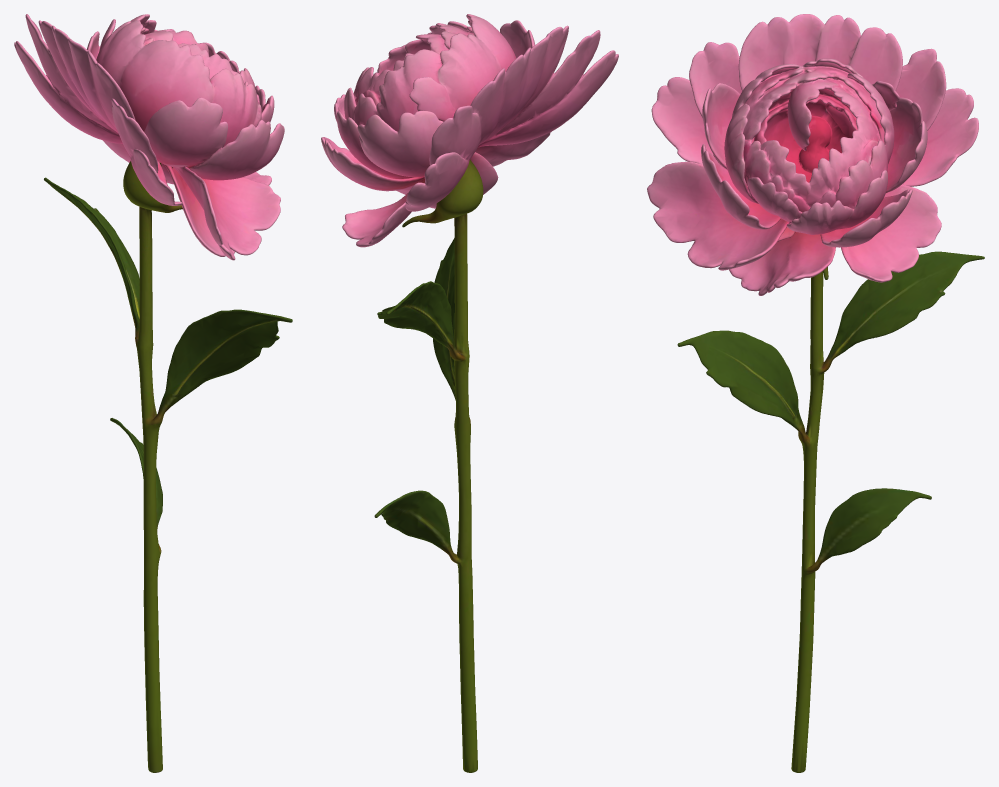
The model's file is pink_peony.glb.
3 views of the same model, side by side, from view 1: azimuth 30°, elevation 25°; view 2: azimuth 150°, elevation 25°; view 3: azimuth 270°, elevation 25° (orthographic). The views are drawn at different scales.
Visible parts, largest first — view 1: tripo_node_740fed77-4f2c-4496-8fc4-18da4ed68cd1; view 2: tripo_node_740fed77-4f2c-4496-8fc4-18da4ed68cd1; view 3: tripo_node_740fed77-4f2c-4496-8fc4-18da4ed68cd1.
Part boxes in pixels (x1=…): tripo_node_740fed77-4f2c-4496-8fc4-18da4ed68cd1: x1=14, y1=14, x2=292, y2=772; tripo_node_740fed77-4f2c-4496-8fc4-18da4ed68cd1: x1=321, y1=14, x2=618, y2=772; tripo_node_740fed77-4f2c-4496-8fc4-18da4ed68cd1: x1=647, y1=14, x2=984, y2=772.
Size of the model in its own units: 0.2801 by 1 by 0.4252.
1 material, 1 textured.
